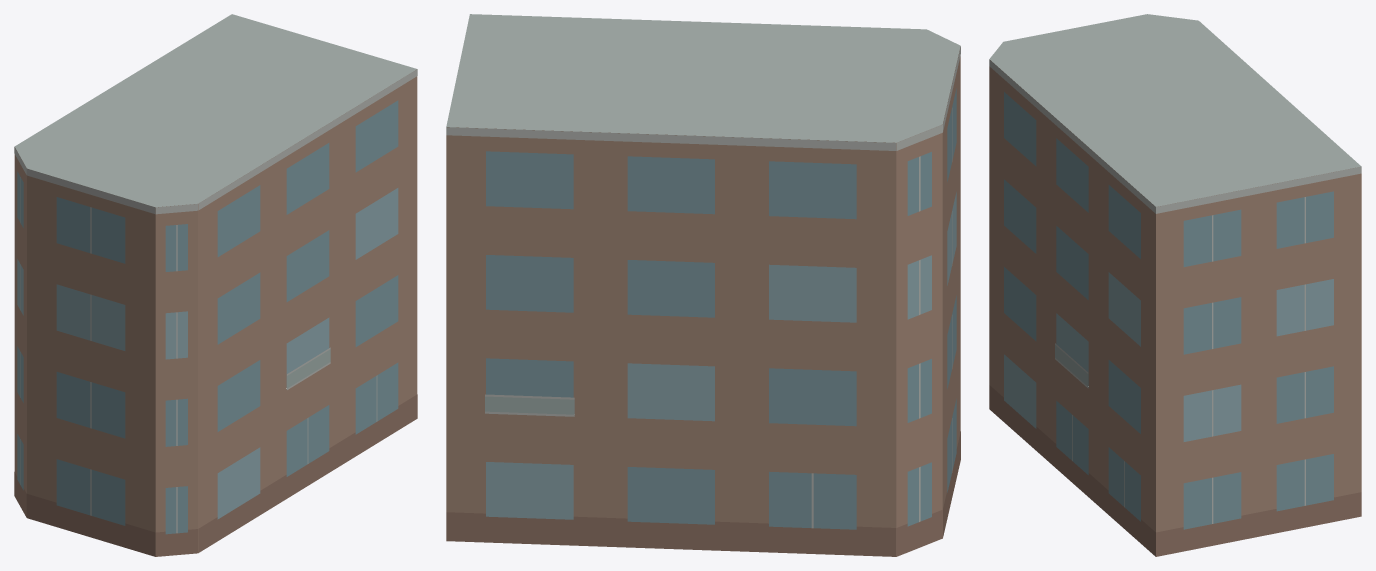
File: survey-upis-33034086.glb
3 renders of one model, left to right at view 1: azimuth 30°, elevation 25°; view 2: azimuth 150°, elevation 25°; view 3: azimuth 270°, elevation 25°, orthographic. The views are drawn at different scales.
Visible parts, largest first — view 1: survey-upis-33034086.tmp; view 2: survey-upis-33034086.tmp; view 3: survey-upis-33034086.tmp.
Part boxes in pixels (box(x1,y1,x2,y2)): survey-upis-33034086.tmp: box(14, 14, 417, 556); survey-upis-33034086.tmp: box(446, 14, 960, 556); survey-upis-33034086.tmp: box(989, 14, 1361, 556).
Size of the model in its own units: 14.43 by 12.2 by 11.77.
